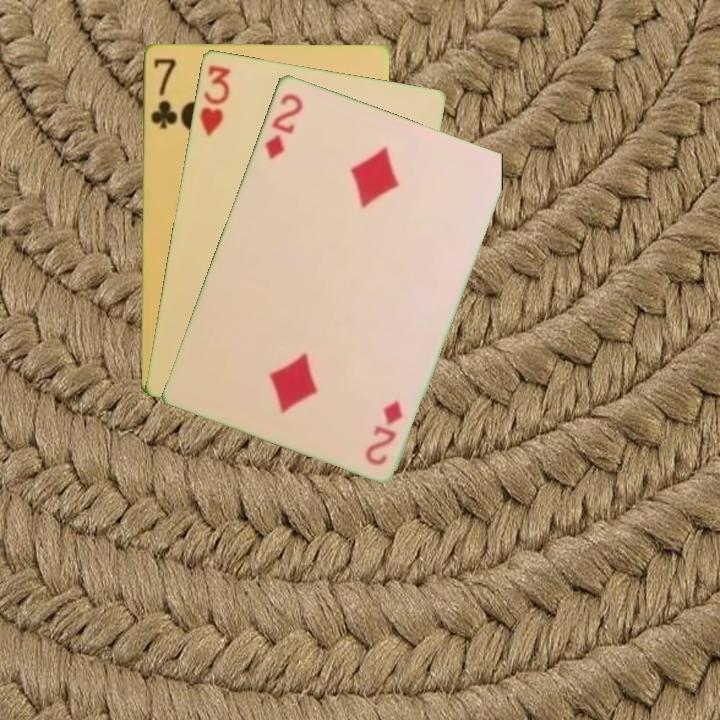2d: (261, 89, 306, 162), (361, 396, 405, 468)
3h: (195, 61, 233, 138)
7c: (147, 55, 180, 132)
